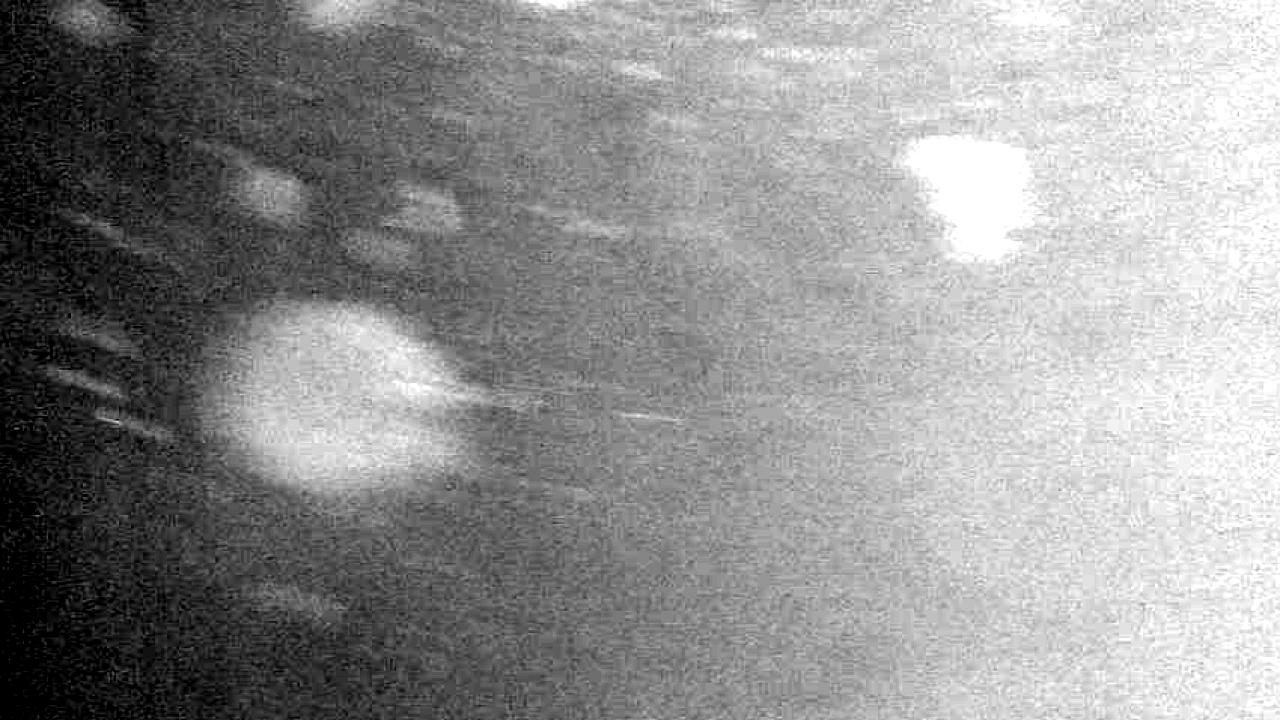drinks Stains: (173, 252, 494, 524), (885, 92, 1055, 278)
